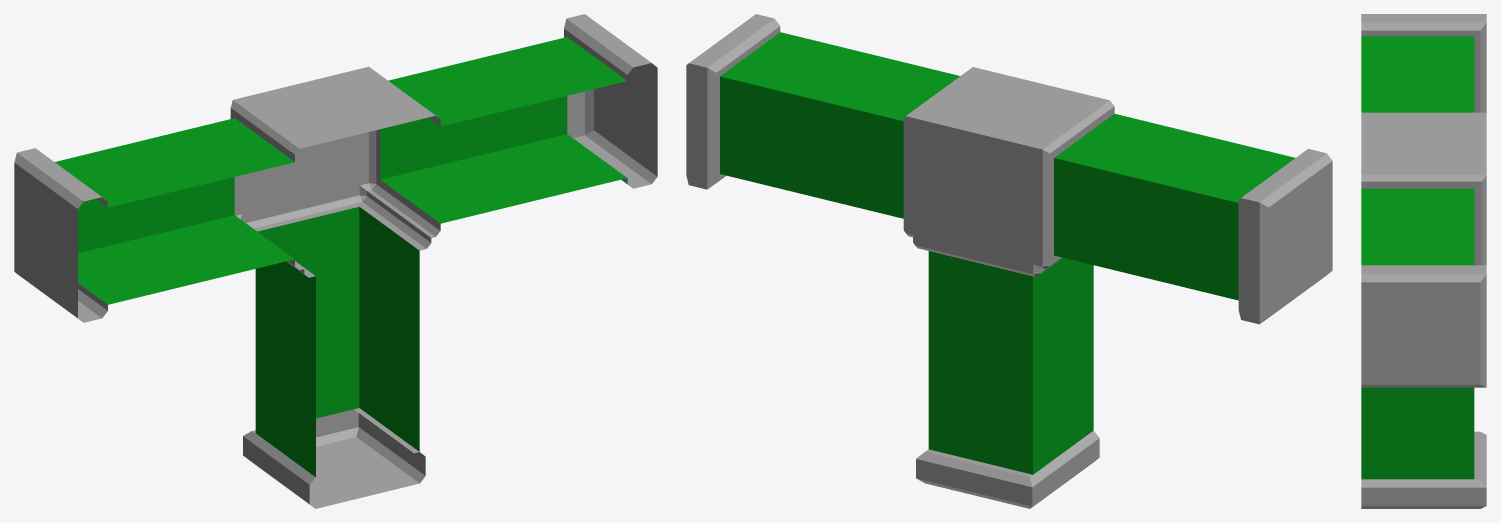
Rendered from Geo_Energy_Pipe_Forkshort.fbx.
3 views of the same model, side by side, from view 1: azimuth 30°, elevation 25°; view 2: azimuth 150°, elevation 25°; view 3: azimuth 270°, elevation 25° (orthographic). The views are drawn at different scales.
Visible parts, largest first — view 1: Geo_Energy_Pipe_Forkshhort; view 2: Geo_Energy_Pipe_Forkshhort; view 3: Geo_Energy_Pipe_Forkshhort.
Boxes of the visible parts, x1,y1,x2,y2 form: Geo_Energy_Pipe_Forkshhort: (14,14,657,508); Geo_Energy_Pipe_Forkshhort: (686,14,1332,508); Geo_Energy_Pipe_Forkshhort: (1361,14,1486,508).
Bounding box in the file's own units: 50 × 30 × 10.
